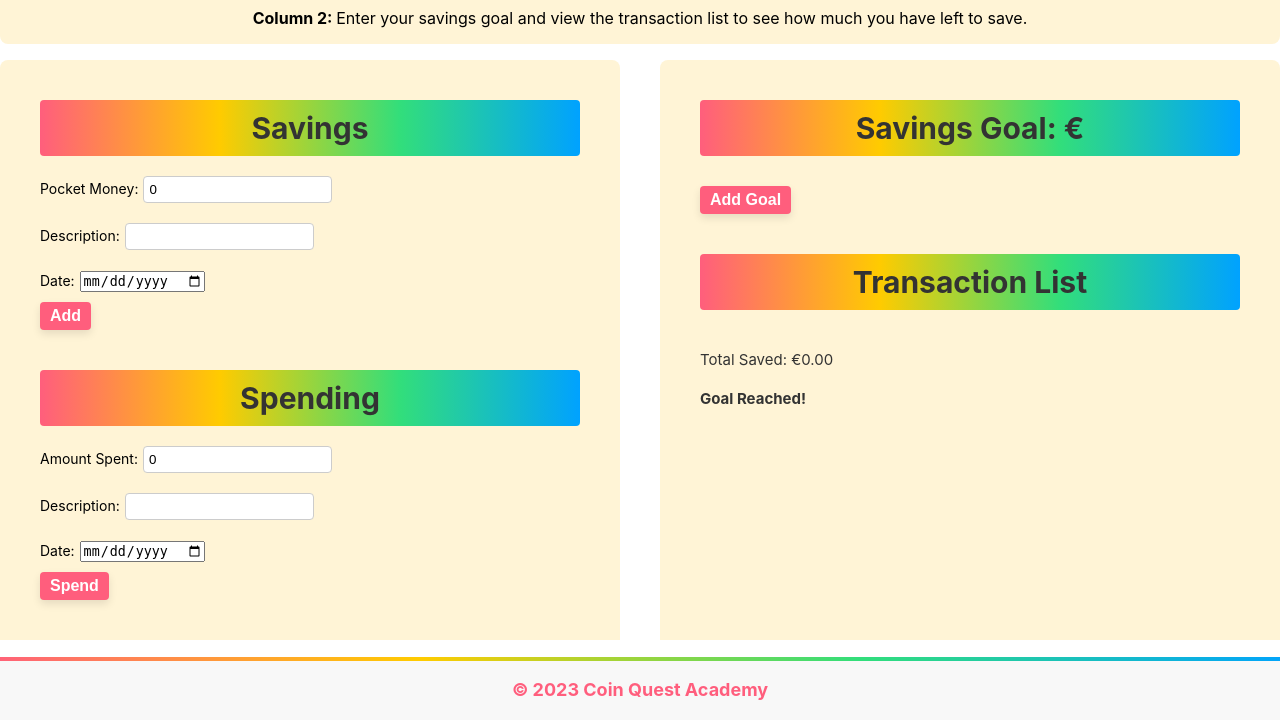
Test: Savings Page › allow entering and saving a savings goal
(page scrolled)
Expected: the element with class "right-container" is shown, 660,60 -> 1279,719
Click the button "Add Goal" at [746, 200], box 700,186 -> 791,214
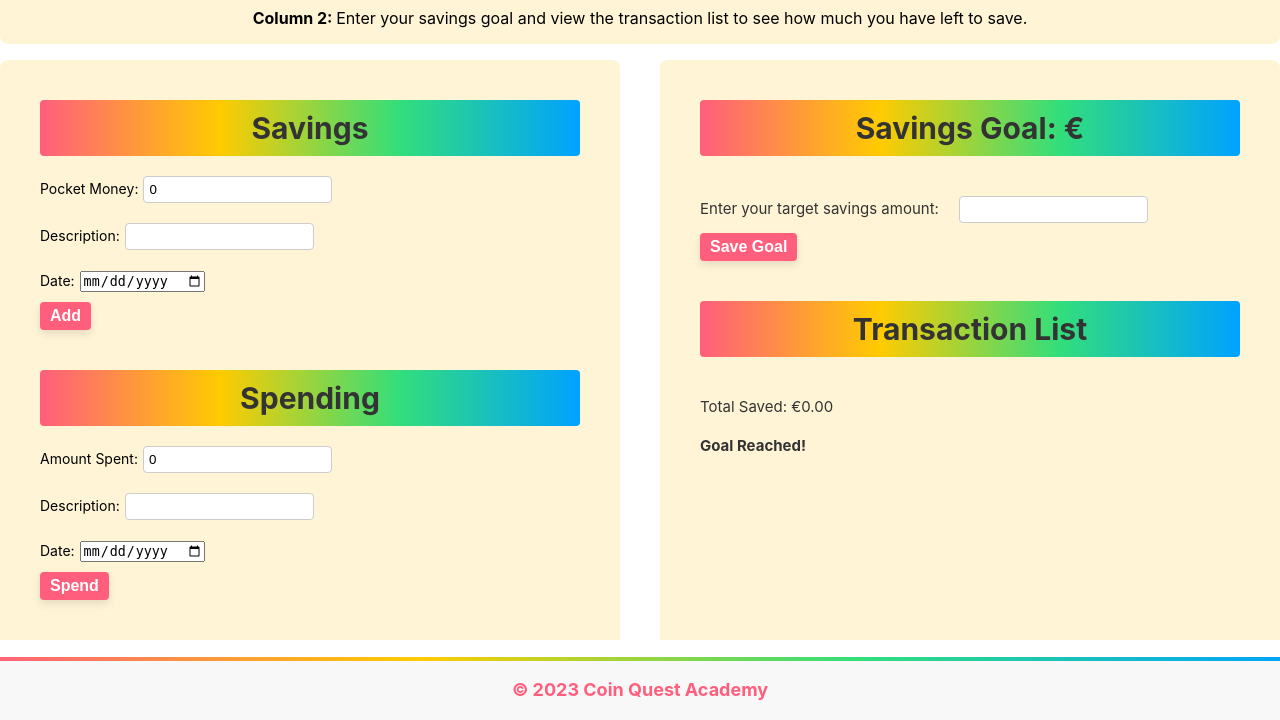
Result: the number field labelled "Enter your target savings amount: Save Goal" is shown
Type "50" into the number field labelled "Enter your target savings amount: Save Goal" at [1054, 210], box 959,196 -> 1148,223
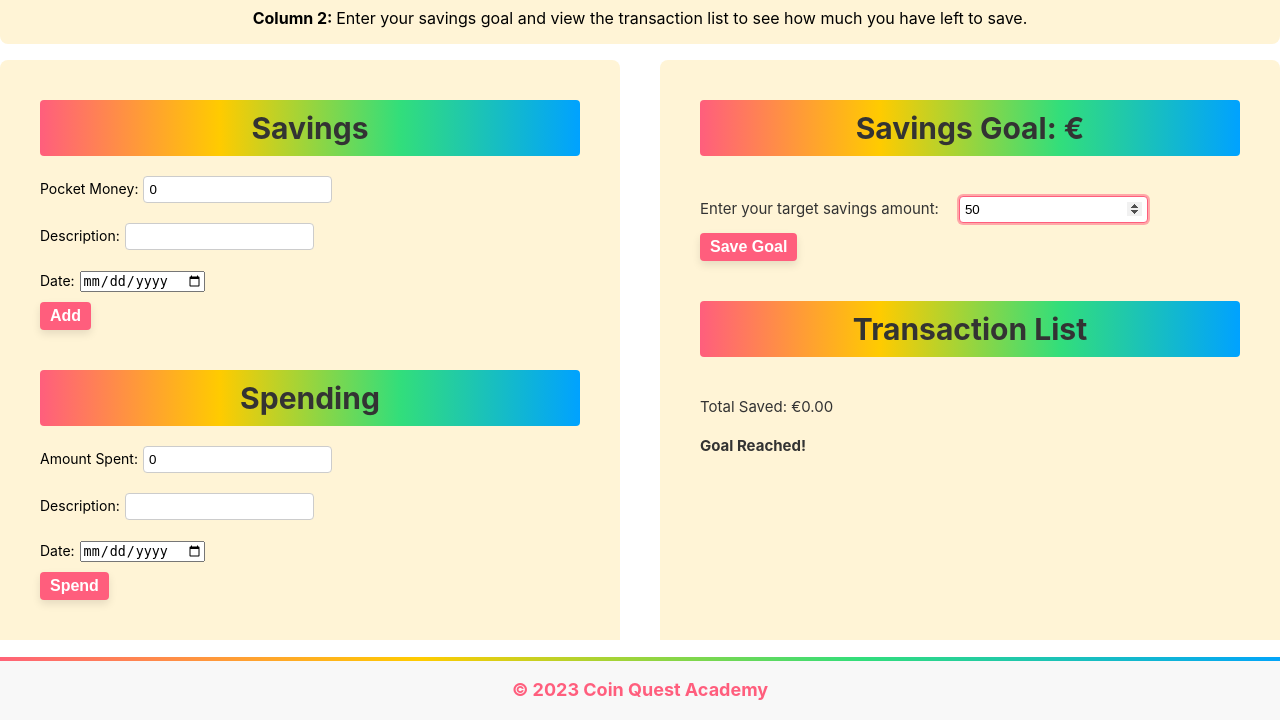
Click the button "Save Goal" at [749, 247], box 700,233 -> 797,261
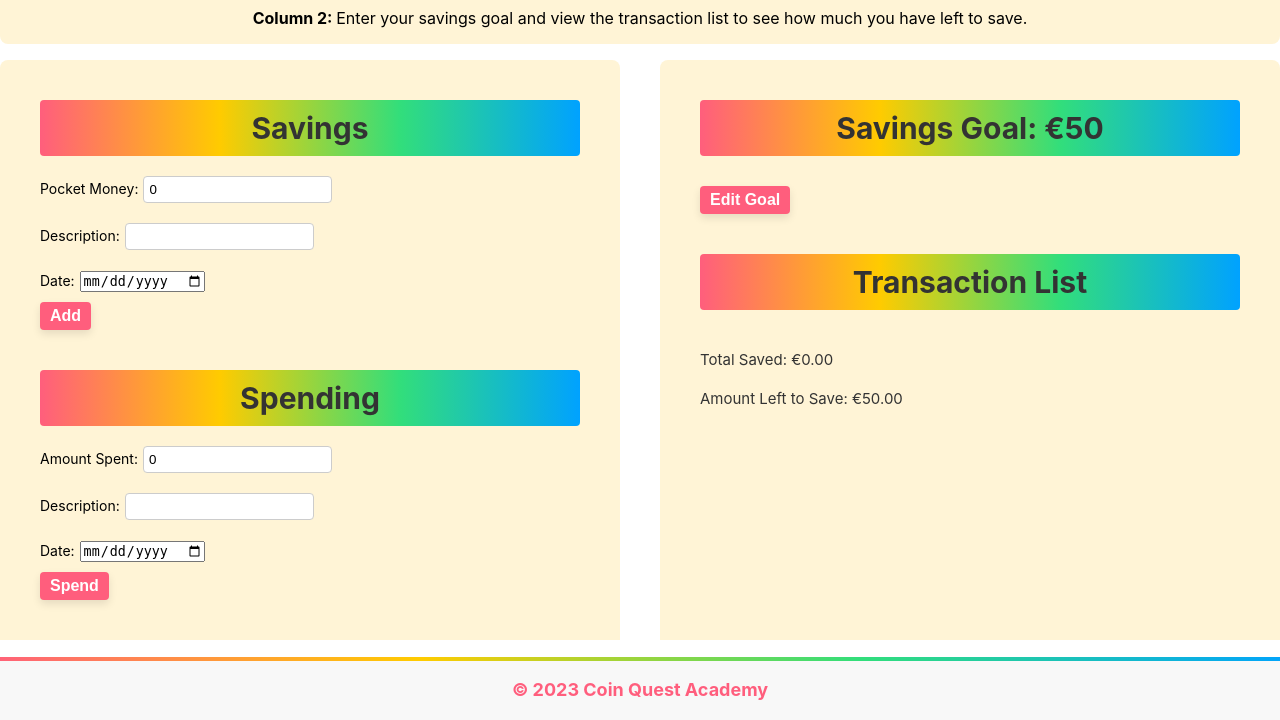
Result: the text "Enter your target savings amount:" is gone
